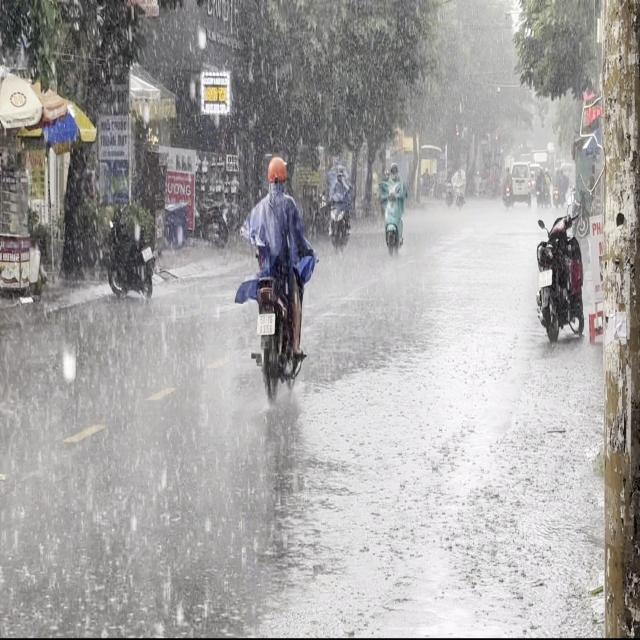helmet: (266, 155, 287, 190)
licenseplate: (239, 152, 313, 401)
nohelmet: (257, 312, 274, 334)
